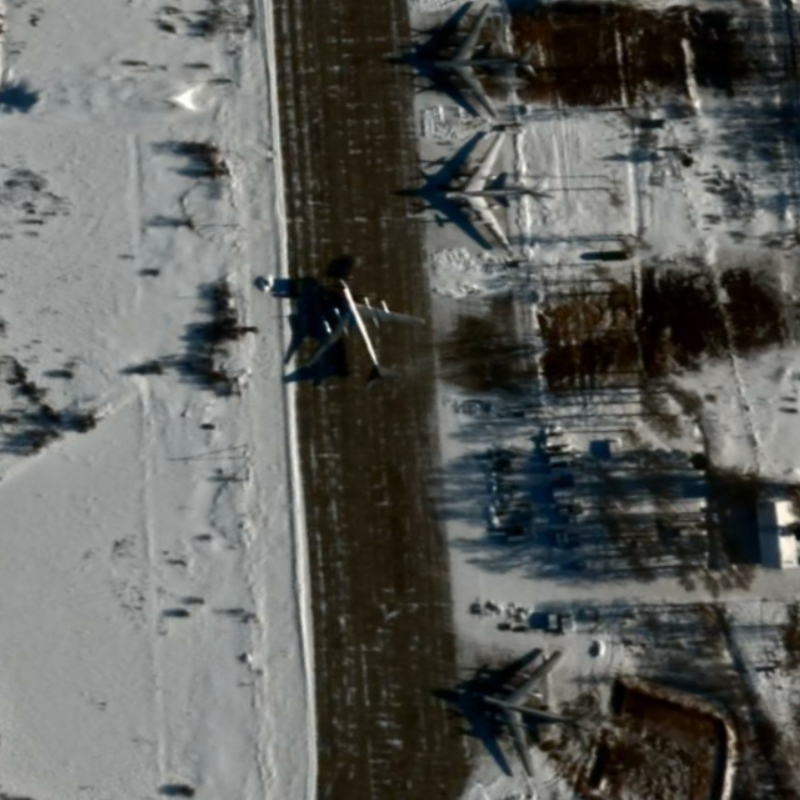A17: (471, 647, 599, 781), (415, 1, 545, 125), (301, 275, 430, 394), (434, 130, 557, 248)
